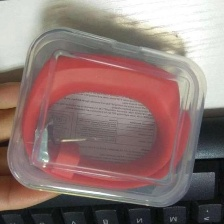plastic_box: (1, 19, 214, 214)
